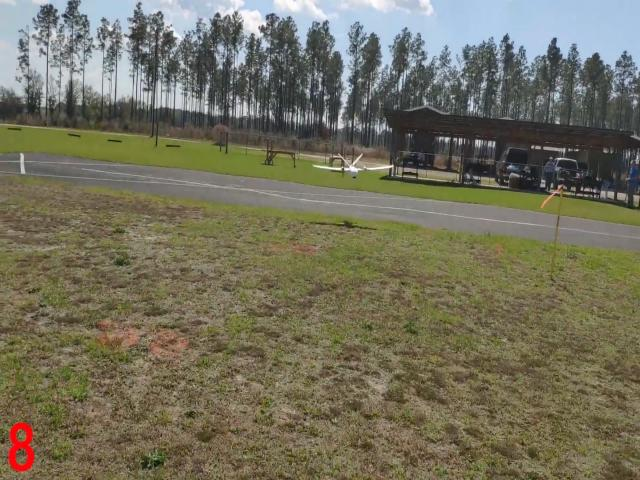plane: (313, 152, 395, 178)
